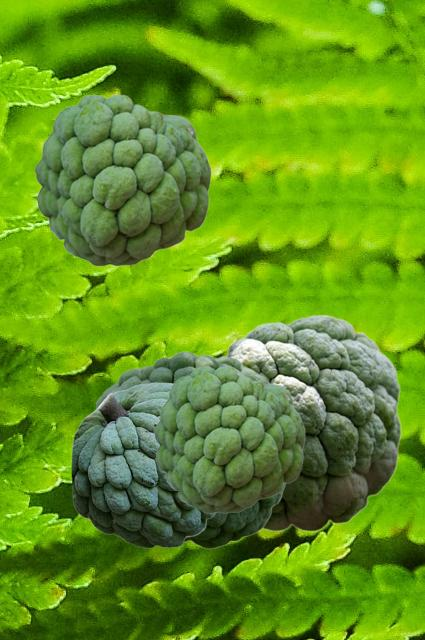atis: (225, 314, 401, 531), (95, 351, 286, 548), (34, 94, 210, 265), (71, 382, 216, 547), (153, 366, 304, 512)
